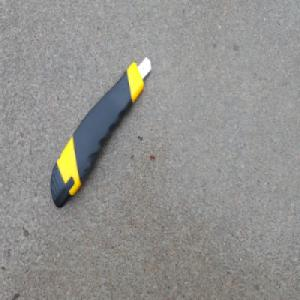Cutter: (50, 54, 152, 209)
